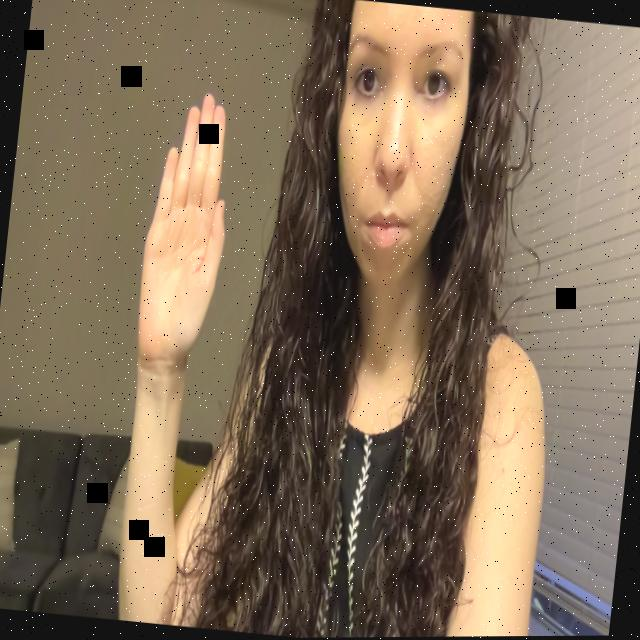Paper: (128, 81, 244, 374)
